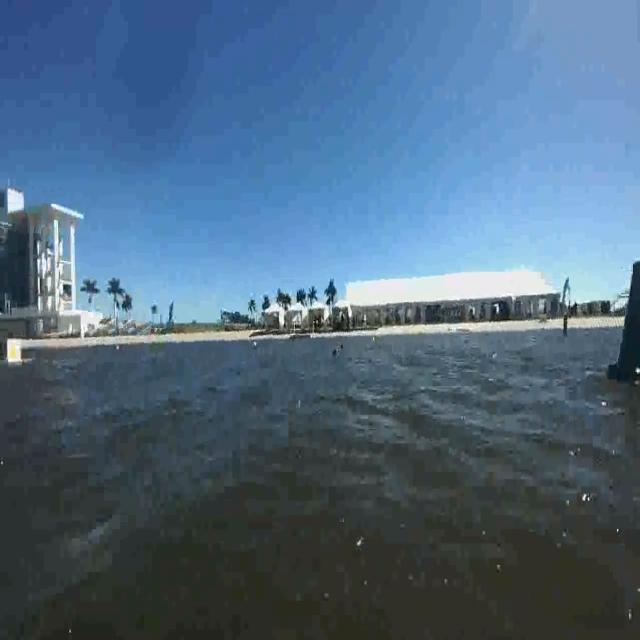green-column-buoy: (608, 254, 640, 384)
